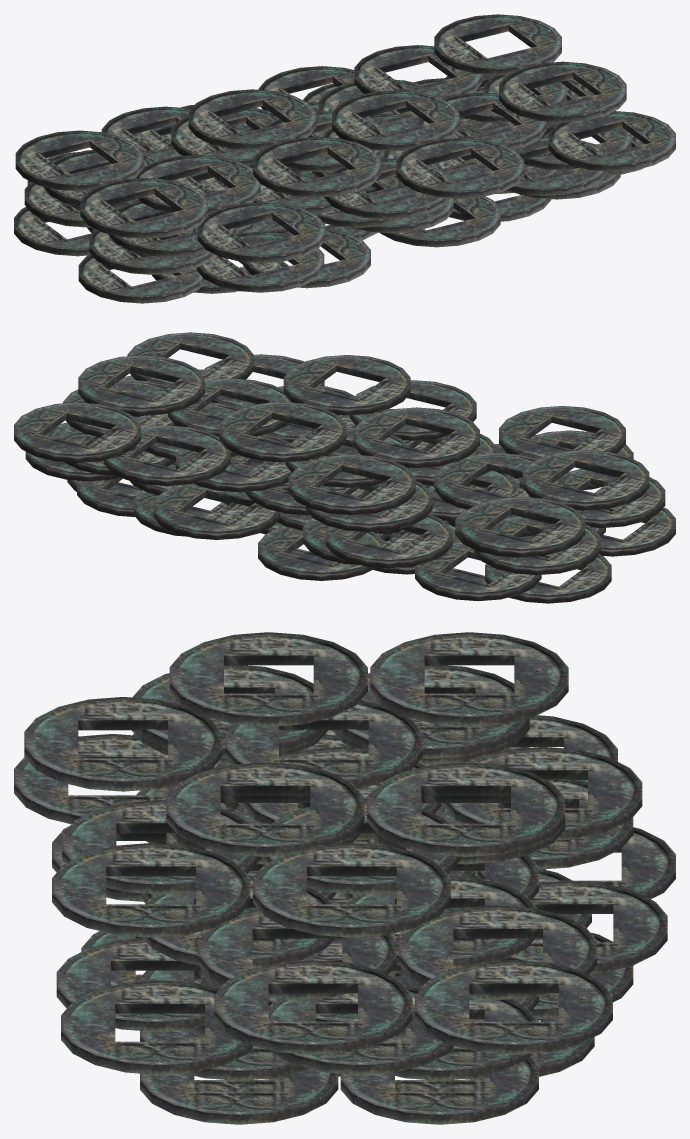
Rendered from 汉代五铢钱.FBX.
3 views of the same model, one above another, from view 1: azimuth 30°, elevation 25°; view 2: azimuth 150°, elevation 25°; view 3: azimuth 270°, elevation 25° (orthographic). The views are drawn at different scales.
Visible parts, largest first — view 1: Cylinder005, Cylinder001, Cylinder007, Cylinder003, Cylinder002, Cylinder036, Cylinder038, Cylinder042, Cylinder040, Cylinder014, Cylinder041, Cylinder037 (+30 smaller); view 2: Cylinder038, Cylinder036, Cylinder040, Cylinder042, Cylinder001, Cylinder005, Cylinder003, Cylinder007, Cylinder041, Cylinder002, Cylinder054, Cylinder044 (+28 smaller); view 3: Cylinder036, Cylinder038, Cylinder005, Cylinder001, Cylinder007, Cylinder040, Cylinder042, Cylinder002, Cylinder003, Cylinder014, Cylinder041, Cylinder044 (+32 smaller).
Part boxes in pixels (<box>): Cylinder005: <box>396,137,524,198</box>; Cylinder001: <box>80,178,207,238</box>; Cylinder007: <box>499,61,626,122</box>; Cylinder003: <box>253,136,380,197</box>; Cylinder002: <box>197,202,325,263</box>; Cylinder036: <box>15,130,143,191</box>; Cylinder038: <box>188,89,316,150</box>; Cylinder042: <box>434,14,561,75</box>; Cylinder040: <box>332,90,459,151</box>; Cylinder014: <box>548,111,675,171</box>; Cylinder041: <box>354,45,481,98</box>; Cylinder037: <box>134,155,260,214</box>; Cylinder038: <box>288,454,415,514</box>; Cylinder036: <box>458,497,585,557</box>; Cylinder040: <box>219,402,346,462</box>; Cylinder042: <box>14,402,140,462</box>; Cylinder001: <box>522,450,649,510</box>; Cylinder005: <box>283,355,410,415</box>; Cylinder003: <box>353,407,479,467</box>; Cylinder007: <box>78,355,204,415</box>; Cylinder041: <box>103,425,230,485</box>; Cylinder002: <box>499,406,625,458</box>; Cylinder054: <box>153,483,280,539</box>; Cylinder044: <box>325,510,452,568</box>; Cylinder036: <box>370,632,568,726</box>; Cylinder038: <box>367,762,565,856</box>; Cylinder005: <box>52,843,250,937</box>; Cylinder001: <box>169,632,367,726</box>; Cylinder007: <box>214,960,412,1054</box>; Cylinder040: <box>252,843,450,937</box>; Cylinder042: <box>415,960,612,1054</box>; Cylinder002: <box>24,697,222,791</box>; Cylinder003: <box>166,762,364,856</box>; Cylinder014: <box>61,980,253,1074</box>; Cylinder041: <box>399,905,597,999</box>; Cylinder044: <box>444,747,642,840</box>.
Bounding box in the file's own units: 283 × 31.03 × 183.
1 material, 1 textured.
